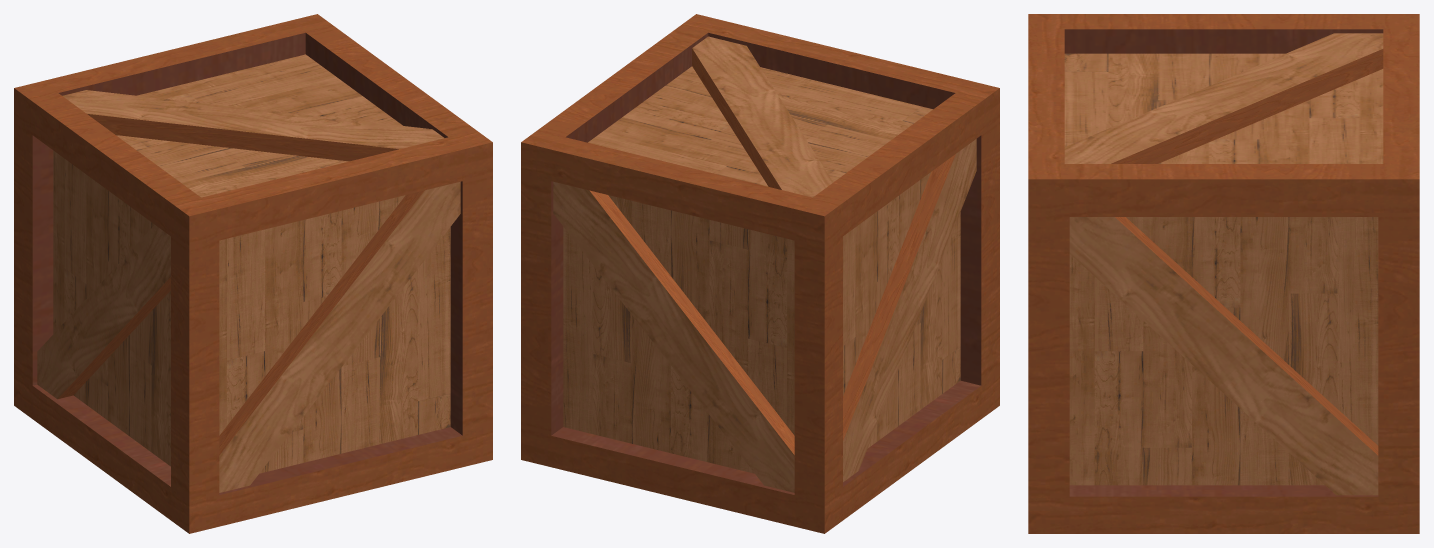
File: Crate_Wood_1.fbx
3 views of the same model, side by side, from view 1: azimuth 30°, elevation 25°; view 2: azimuth 150°, elevation 25°; view 3: azimuth 270°, elevation 25° (orthographic). The views are drawn at different scales.
Visible parts, largest first — view 1: Wooden_Crate; view 2: Wooden_Crate; view 3: Wooden_Crate.
Boxes of the visible parts, left/top/right/bottom form: Wooden_Crate: left=14, top=14, right=492, bottom=533; Wooden_Crate: left=521, top=14, right=999, bottom=533; Wooden_Crate: left=1028, top=14, right=1419, bottom=533.
Size of the model in its own units: 66.57 by 66.57 by 66.57.
